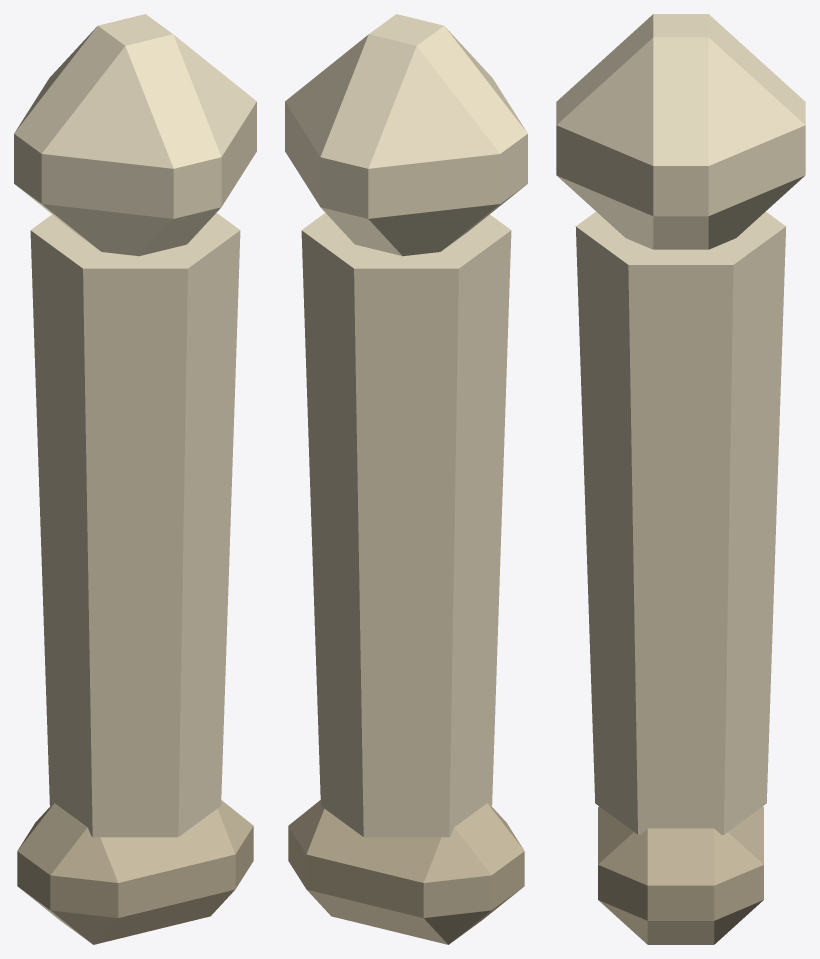
The model's file is braccio_sopra.glb.
3 views of the same model, side by side, from view 1: azimuth 30°, elevation 25°; view 2: azimuth 150°, elevation 25°; view 3: azimuth 270°, elevation 25° (orthographic).
Visible parts, largest first — view 1: braccio_sopra2; view 2: braccio_sopra2; view 3: braccio_sopra2.
Boxes of the visible parts, x1,y1,x2,y2 form: braccio_sopra2: (14, 14, 256, 944); braccio_sopra2: (285, 14, 527, 944); braccio_sopra2: (556, 14, 805, 944).
Bounding box in the file's own units: 0.09 × 0.355 × 0.09.
